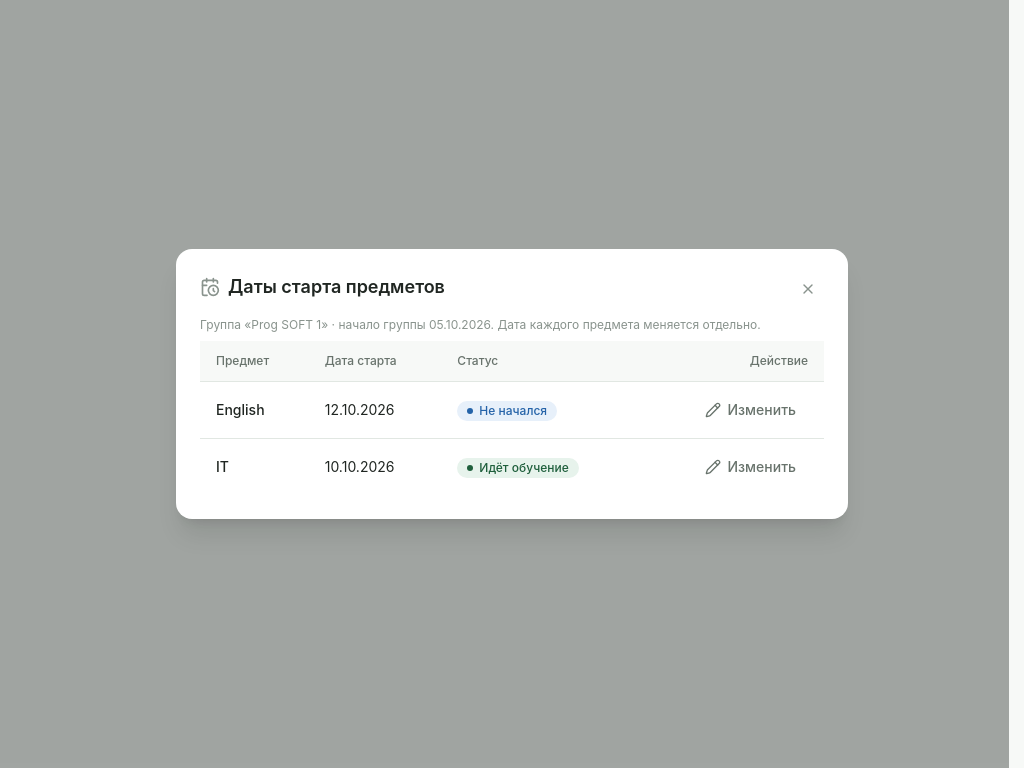
Test case: SubjectStartDatesModal › shows the backend refusal and keeps the row in edit mode
Click the button with aria-label "Изменить дату старта: IT": point(751, 467) [694,451,808,483]
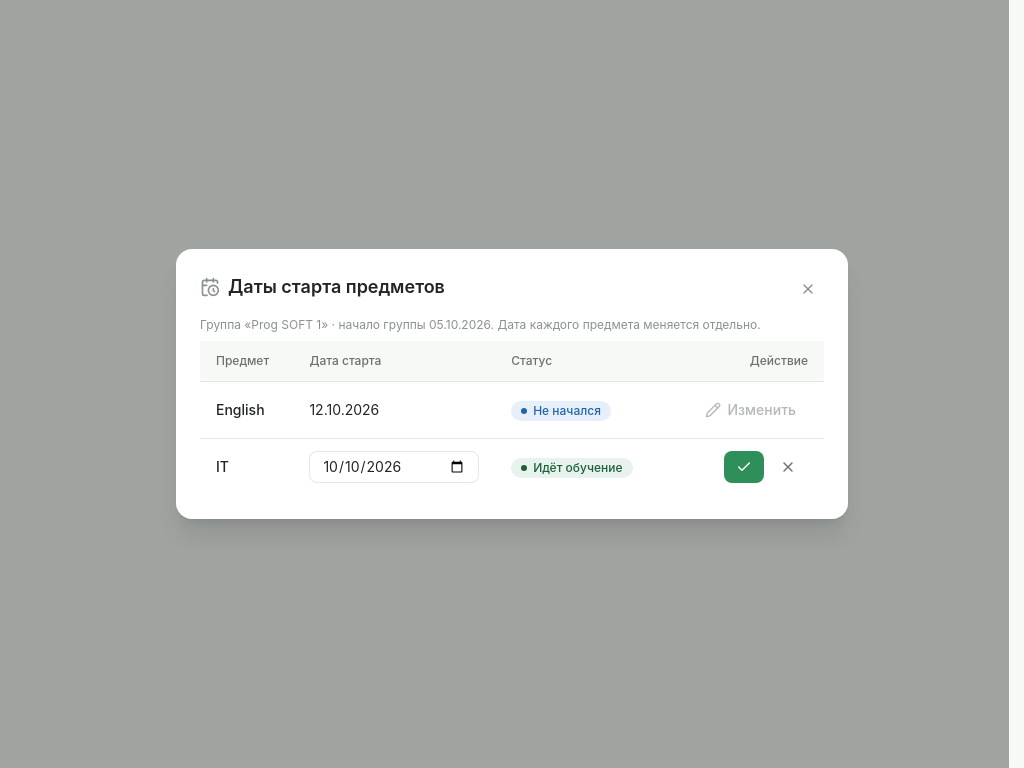
In the date field named "Дата старта: IT": point(394, 467) [309,451,479,483], type "2026-10-20"
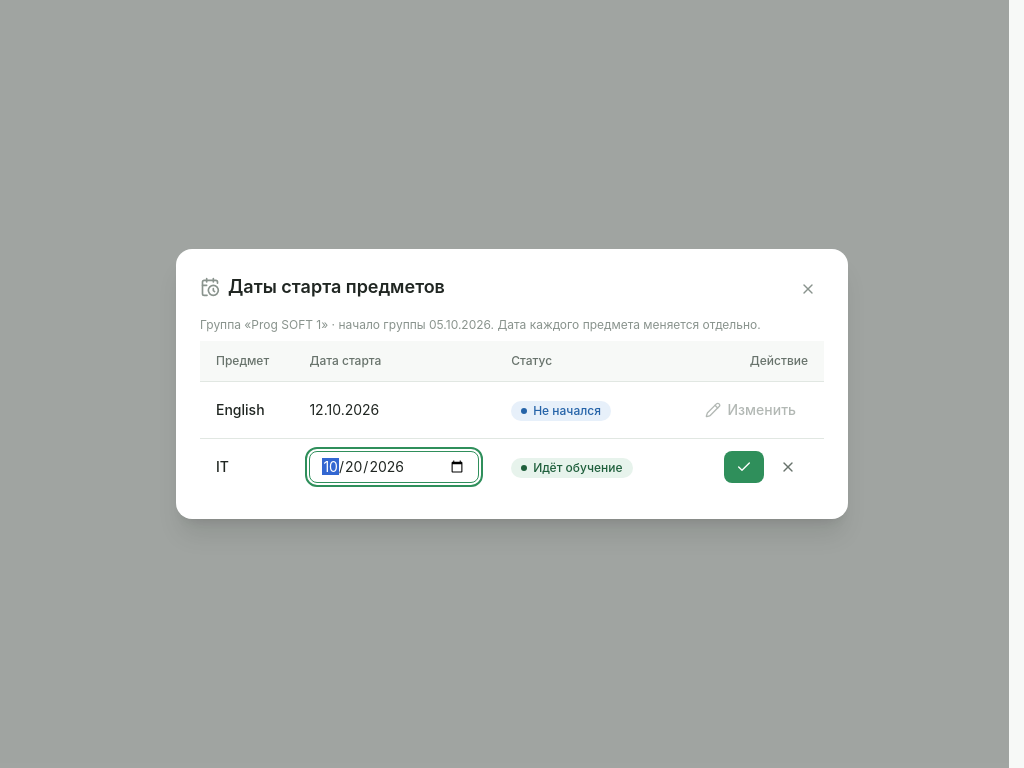
Click the button named "Сохранить": point(744, 467) [724,451,764,483]
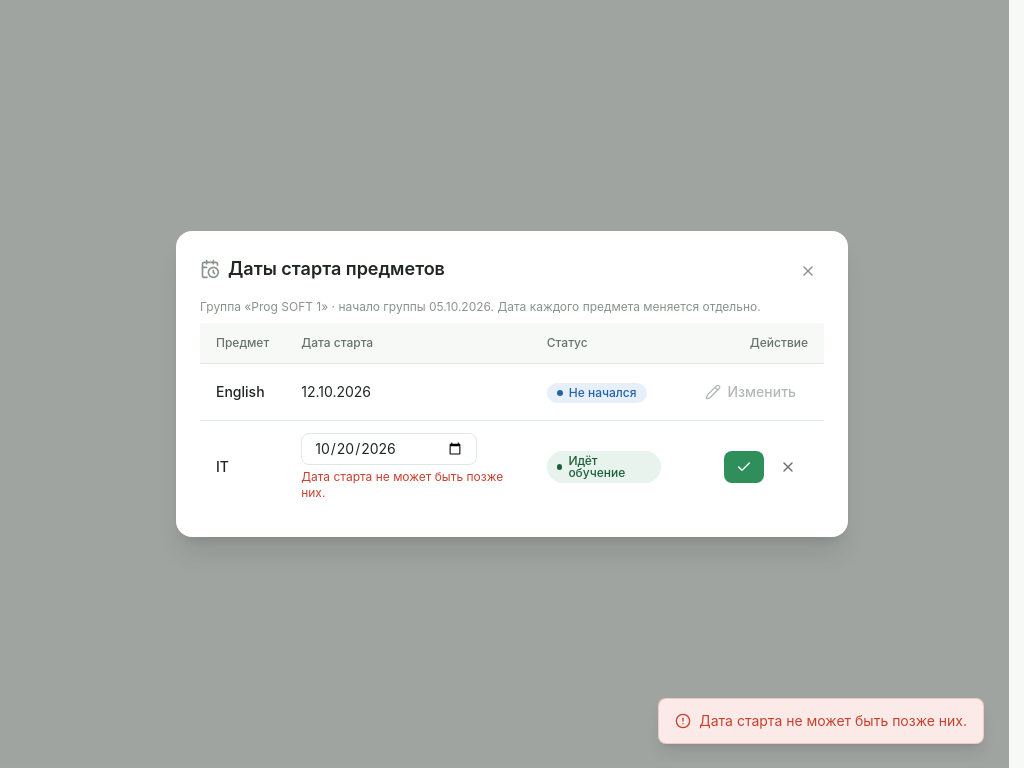
Expected: the message "Дата старта не может быть позже них." next to "IT" is shown, [301,469,503,500]
